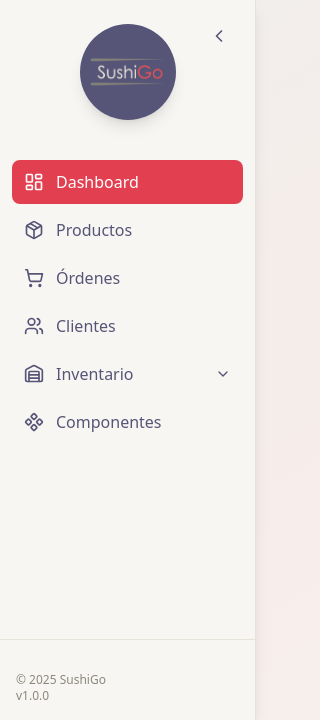
Scenario: Sidebar — inventory-manager sees inventory sections › shows Inventario with Existencias reachable as a sub-item
Expected: the text "Inventario" is shown, [56, 363, 134, 385]
Click the button "Inventario" at [128, 374], box [12, 352, 243, 396]
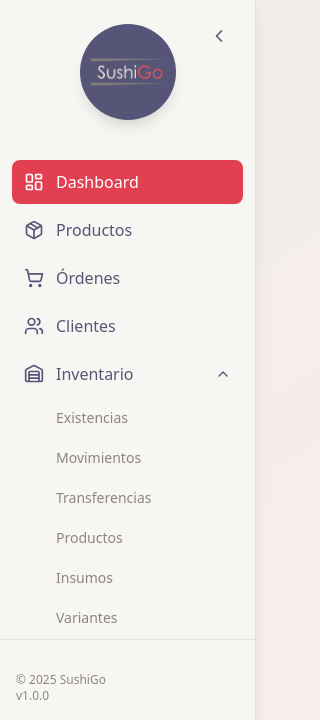
Now the link "Existencias" is shown, box [56, 408, 128, 427]
